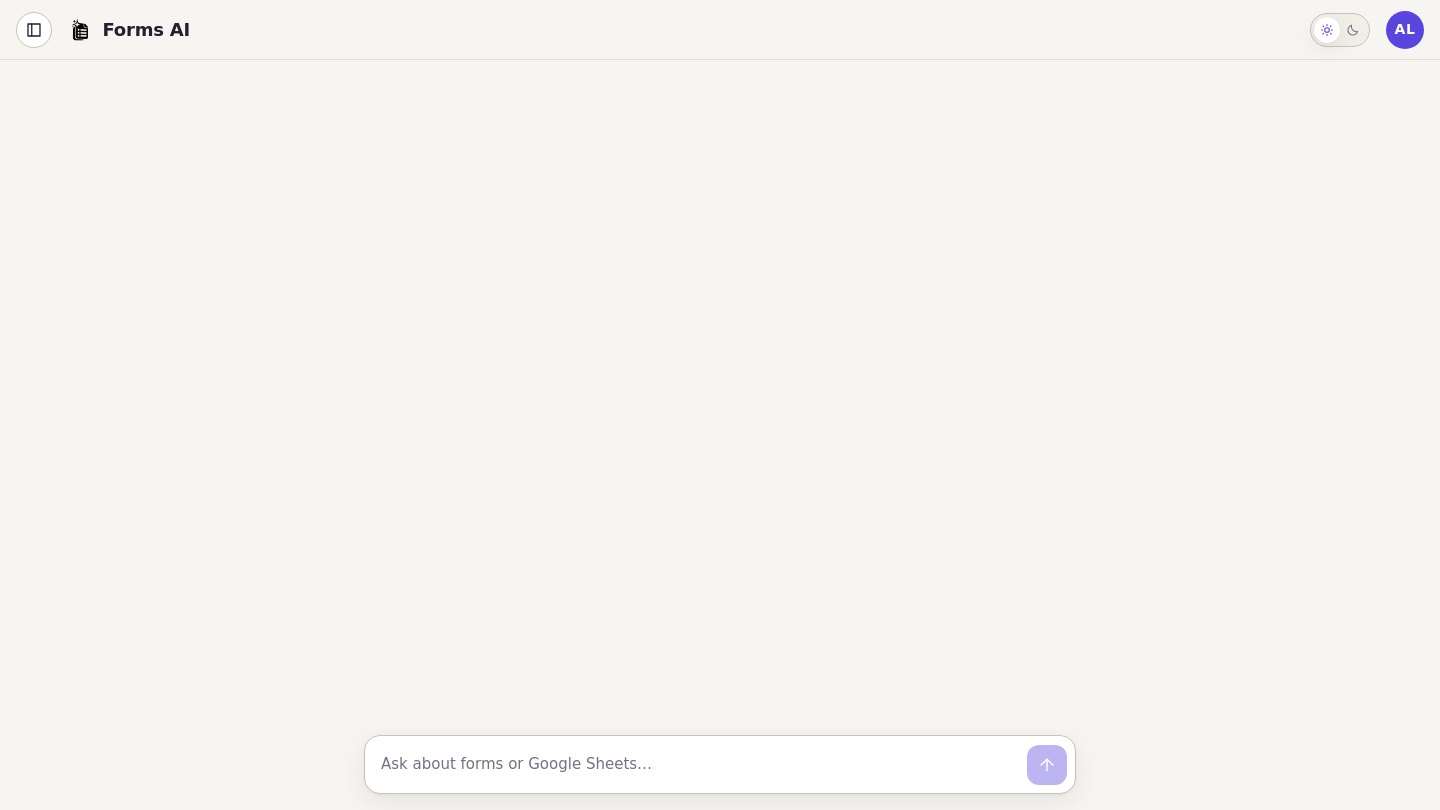
Test case: chat history deletion › shows a delete control for every conversation
The width and height of the screenshot is (1440, 810).
Step 1. Click the button named "Open sidebar" → (34, 30), box x1=16 y1=12 x2=52 y2=48
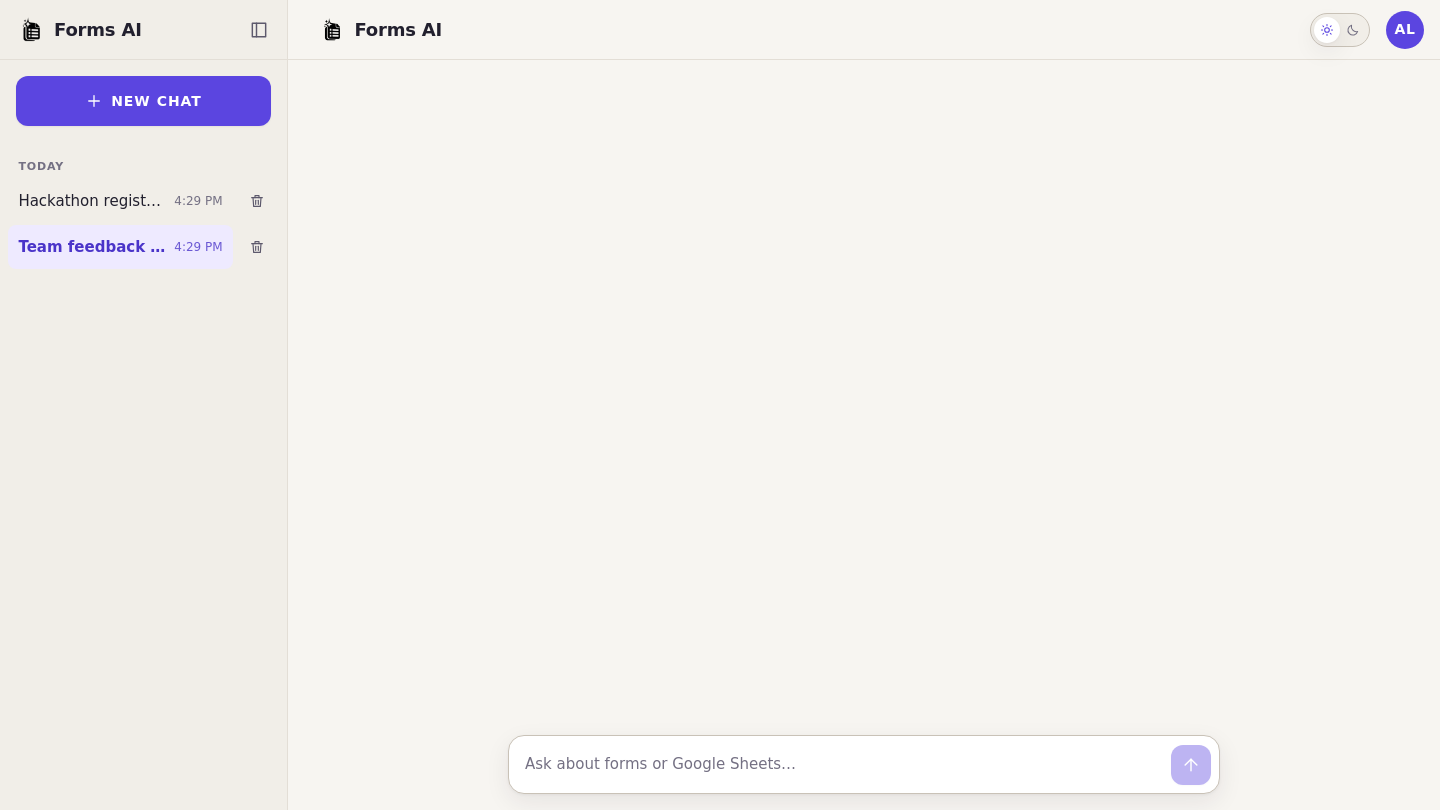
Now the text "Hackathon registration" is shown, box x1=18 y1=190 x2=166 y2=213
Now the button named "Delete chat “Hackathon registration”" is shown, box x1=235 y1=179 x2=279 y2=223
Now the button named "Delete chat “Team feedback survey”" is shown, box x1=235 y1=225 x2=279 y2=269
